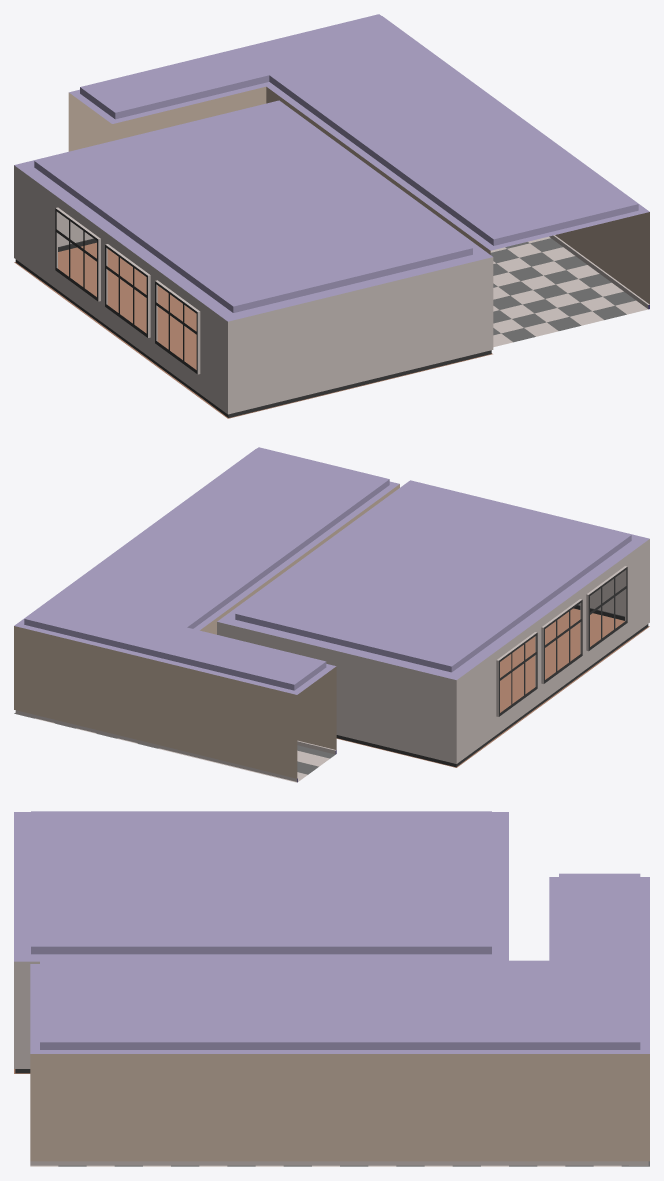
Rendered from School.fbx.
The picture shows the model from 3 angles, top to bottom: view 1: azimuth 30°, elevation 25°; view 2: azimuth 150°, elevation 25°; view 3: azimuth 270°, elevation 25°; orthographic projection. The views are drawn at different scales.
Visible parts, largest first — view 1: School; view 2: School; view 3: School.
Part boxes in pixels (x1=…): School: x1=14, y1=14, x2=649, y2=418; School: x1=14, y1=447, x2=649, y2=782; School: x1=14, y1=811, x2=649, y2=1166.
Size of the model in its own units: 1847 by 424 by 2037.
